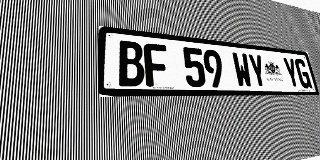5: (182, 47, 207, 87)
9: (202, 49, 226, 87)
B: (117, 40, 145, 87)
F: (143, 43, 170, 87)
G: (294, 58, 312, 88)
W: (231, 52, 253, 88)
Y: (247, 53, 268, 88), (282, 57, 301, 88)
